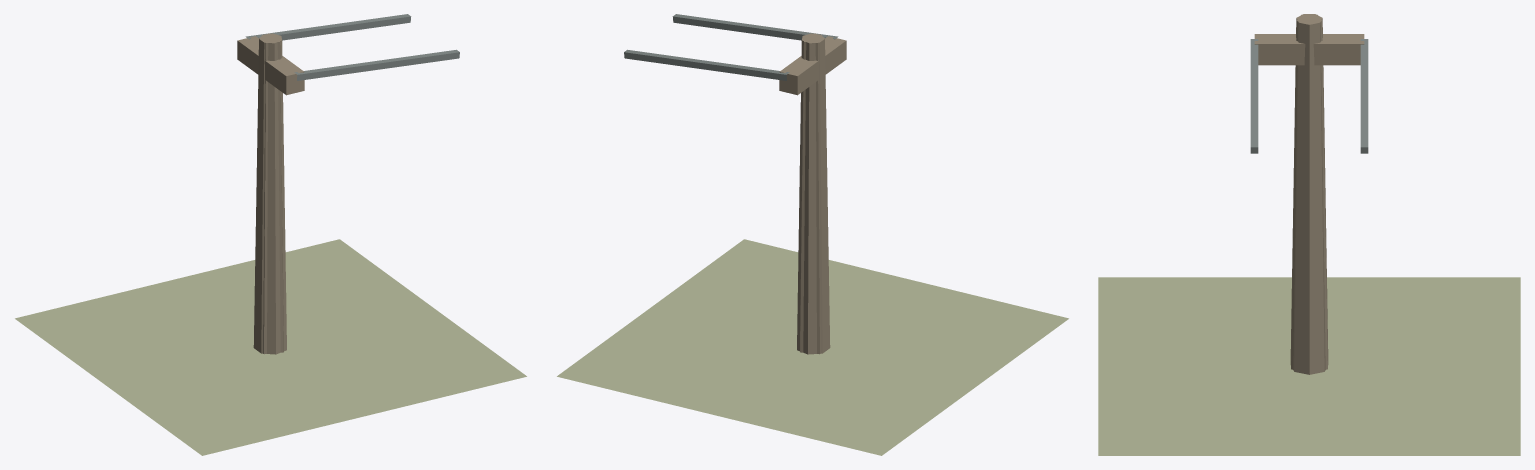
3 views of the same model, side by side, from view 1: azimuth 30°, elevation 25°; view 2: azimuth 150°, elevation 25°; view 3: azimuth 270°, elevation 25° (orthographic). The views are drawn at different scales.
Parts seen in each view (by area): view 1: Near, Far; view 2: Near, Far; view 3: Near, Far.
Boxes of the visible parts, x1=… form: Near: x1=15, y1=14, x2=526, y2=455; Far: x1=259, y1=33, x2=283, y2=354; Near: x1=557, y1=14, x2=1068, y2=455; Far: x1=800, y1=33, x2=824, y2=354; Near: x1=1098, y1=14, x2=1520, y2=455; Far: x1=1291, y1=14, x2=1327, y2=369.
Size of the model in its own units: 1 by 0.91 by 1.
